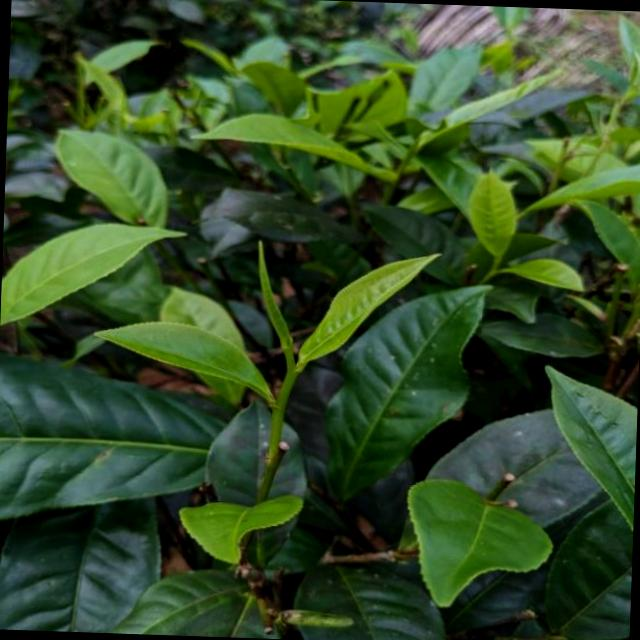Stem: (274, 372, 297, 406)
